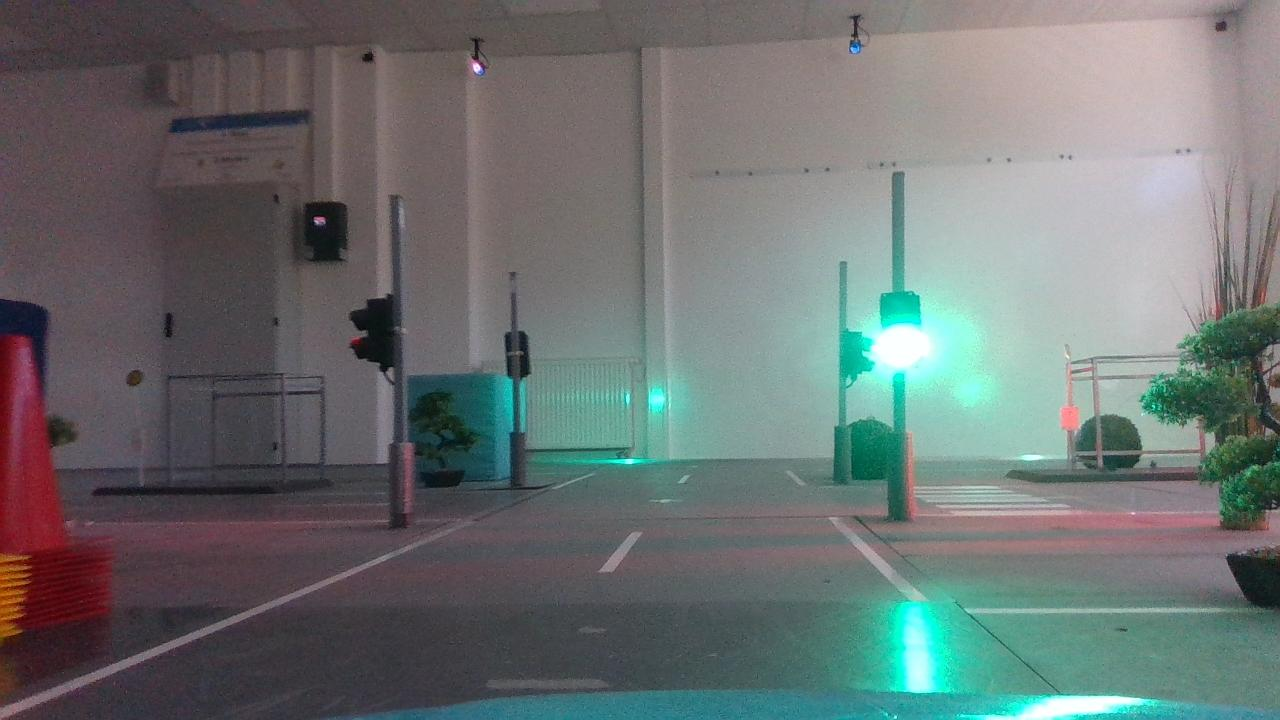traffic_light_green: (870, 283, 931, 382)
